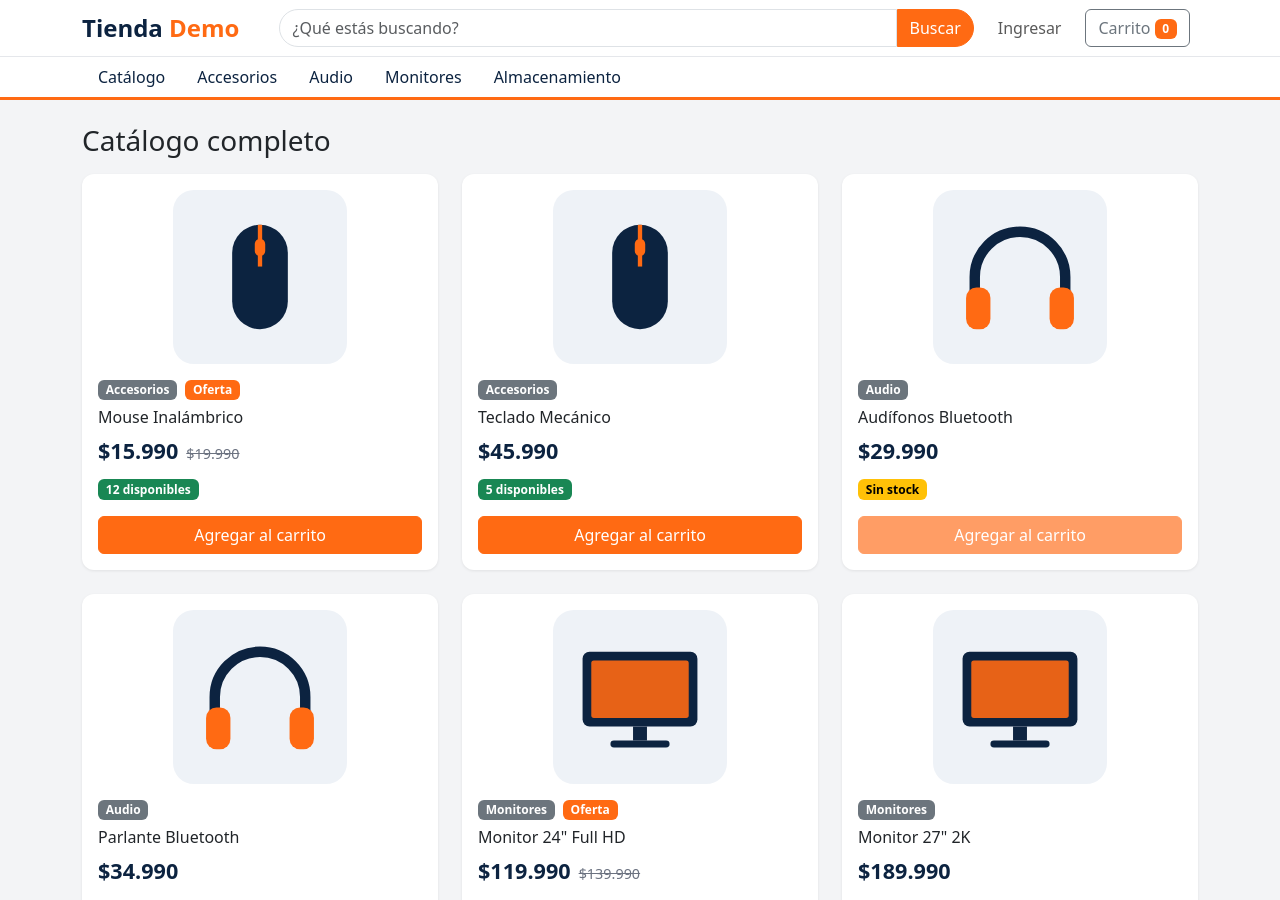
Test: flujo de compra (App) › filtra el catálogo al elegir una categoría
Click the link "Audio" at [331, 77], box top-left (309, 66), bottom-right (353, 88)
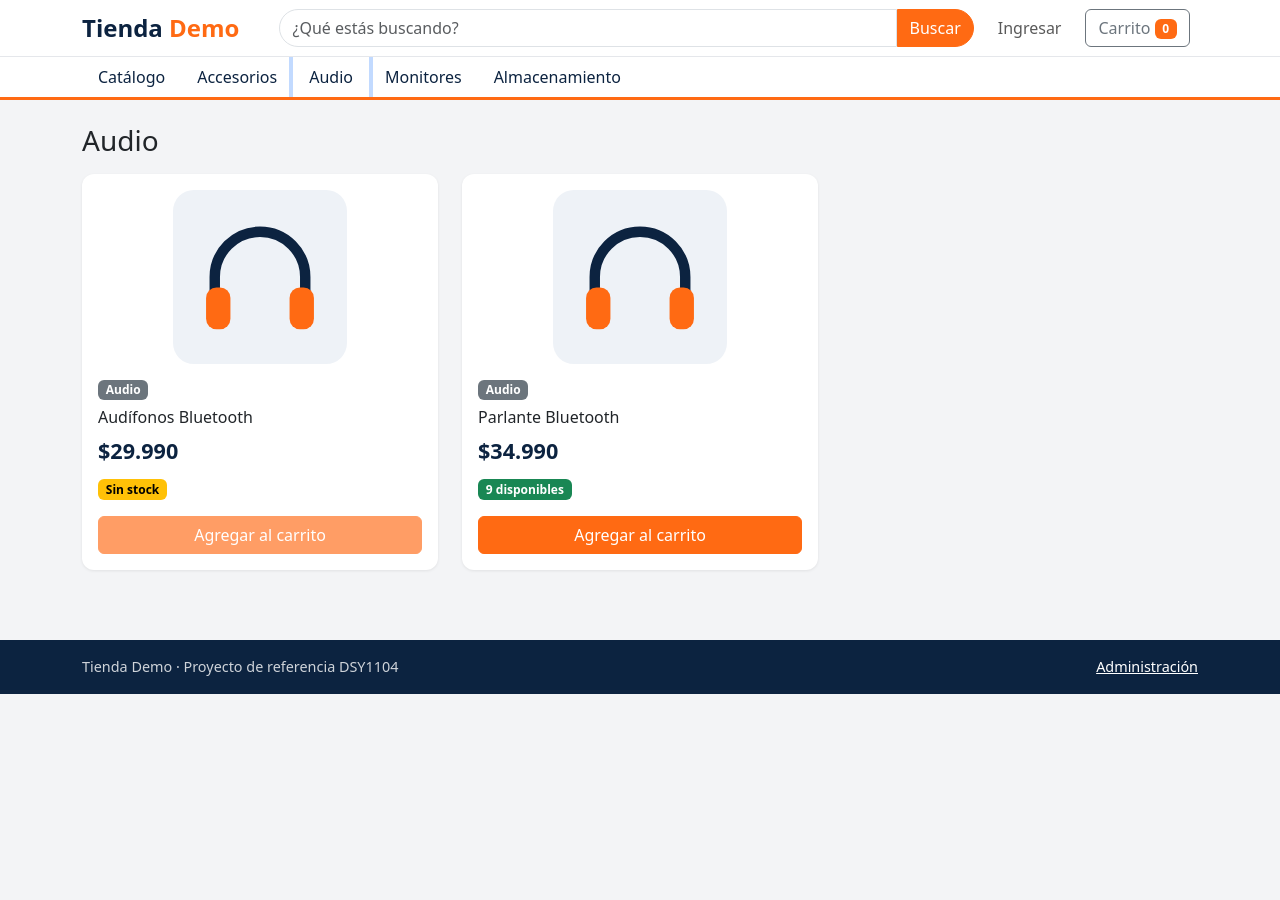
Check: the heading "Audífonos Bluetooth" is shown, box top-left (98, 406), bottom-right (253, 428)
Check: the heading "Audio" is shown, box top-left (82, 121), bottom-right (159, 159)
Check: the heading "Mouse Inalámbrico" is gone
